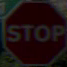Stop: (6, 10, 63, 51)
